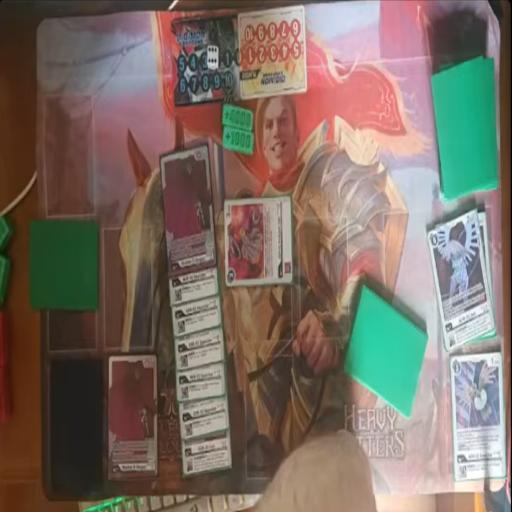card: (425, 208, 494, 344), (158, 140, 218, 273), (449, 350, 508, 482), (107, 356, 160, 480), (225, 196, 294, 286), (175, 322, 225, 374), (178, 390, 228, 442), (172, 292, 223, 337), (180, 436, 232, 478), (176, 362, 228, 402), (166, 269, 221, 304)
